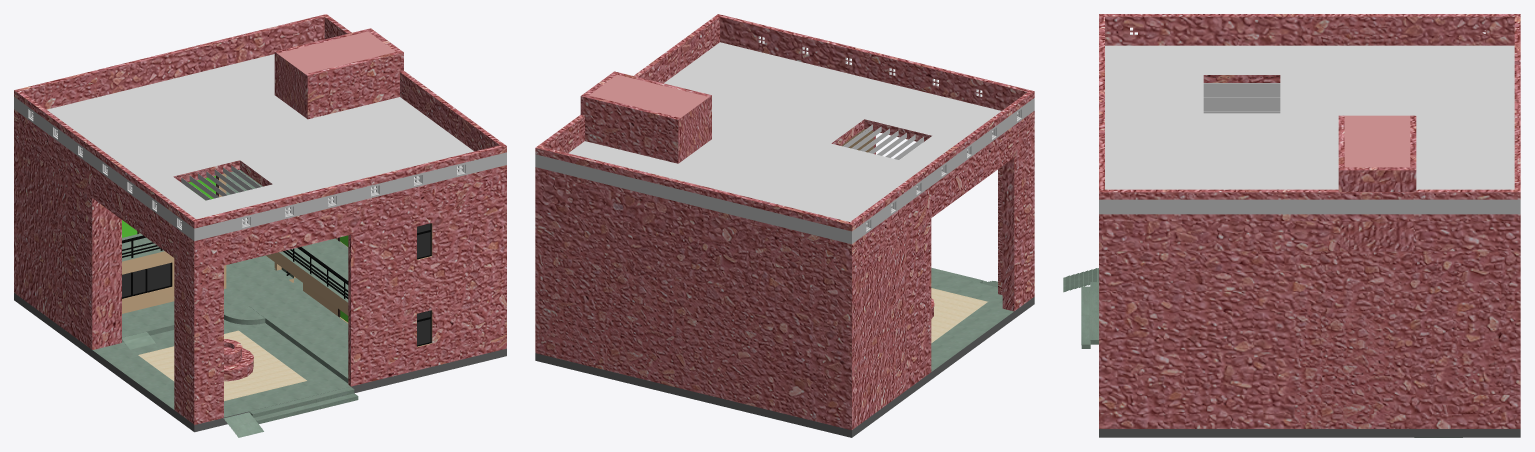
File: doctor.fbx
3 renders of one model, left to right at view 1: azimuth 30°, elevation 25°; view 2: azimuth 150°, elevation 25°; view 3: azimuth 270°, elevation 25°, orthographic. The views are drawn at different scales.
Visible parts, largest first — view 1: building1, building0, building3, floor0, floor4, building2, floor1, floor5, window0, railing0, Cube.001, Circle (+1 smaller); view 2: building0, building1, building3, building2, floor0, Cube.001; view 3: building0, building1, building3, building2, floor0, Cube.001, floor5.
Boxes of the visible parts, left/top/right/bottom form: building1: left=14, top=54, right=506, bottom=425; building0: left=14, top=141, right=506, bottom=386; building3: left=14, top=14, right=506, bottom=246; floor0: left=14, top=278, right=506, bottom=432; floor4: left=122, top=255, right=348, bottom=383; building2: left=274, top=28, right=403, bottom=119; floor1: left=122, top=170, right=348, bottom=315; floor5: left=223, top=387, right=358, bottom=437; window0: left=122, top=262, right=172, bottom=298; railing0: left=122, top=235, right=348, bottom=298; Cube.001: left=181, top=165, right=260, bottom=200; Circle: left=224, top=339, right=253, bottom=381; building0: left=535, top=129, right=906, bottom=430; building1: left=535, top=42, right=1034, bottom=389; building3: left=535, top=14, right=1034, bottom=250; building2: left=580, top=71, right=711, bottom=163; floor0: left=535, top=271, right=1034, bottom=437; Cube.001: left=843, top=124, right=923, bottom=159; building0: left=1099, top=251, right=1520, bottom=428; building1: left=1099, top=45, right=1520, bottom=251; building3: left=1099, top=14, right=1520, bottom=221; building2: left=1338, top=115, right=1416, bottom=251; floor0: left=1099, top=429, right=1520, bottom=437; Cube.001: left=1203, top=83, right=1280, bottom=113; floor5: left=1063, top=268, right=1098, bottom=348.
Bounding box in the file's own units: 1420 × 999 × 1540.
